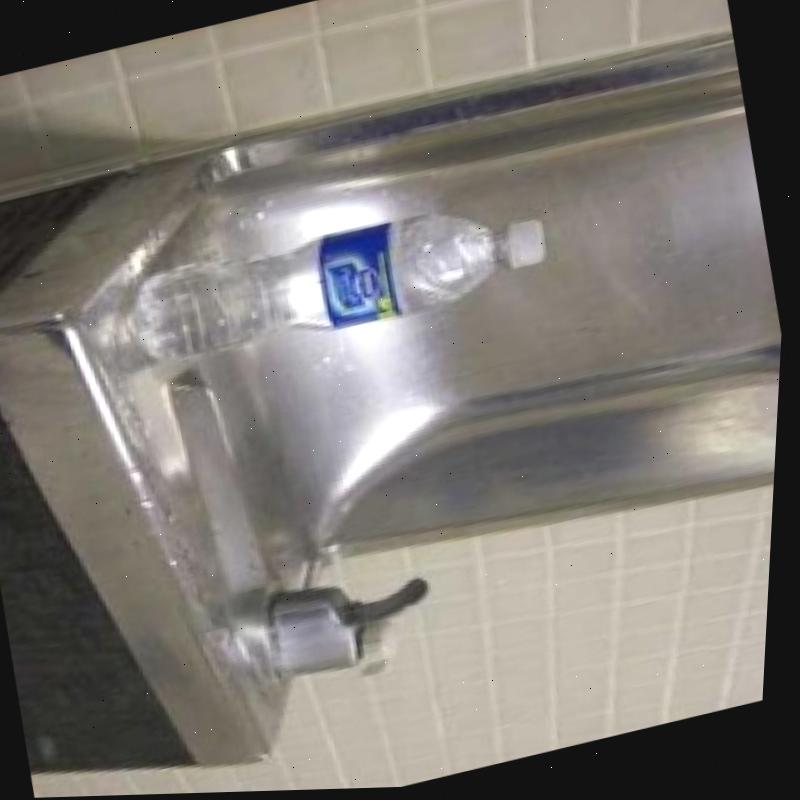botella: (126, 192, 560, 378)
